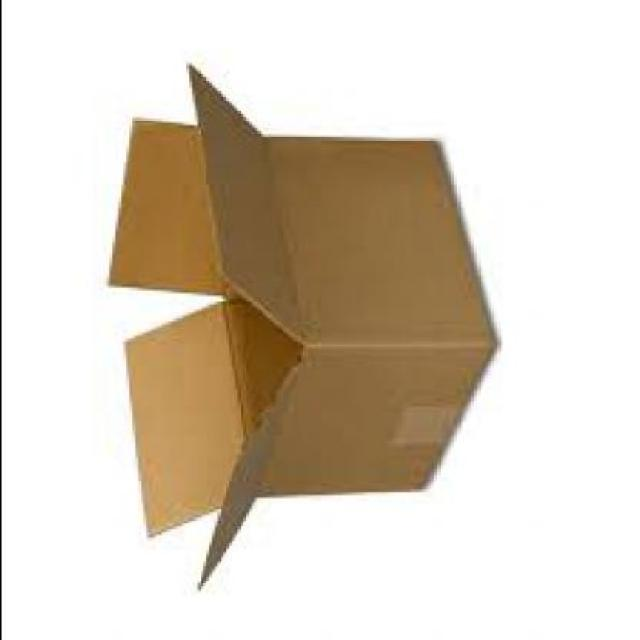CARDBOARD: (105, 66, 492, 594)
